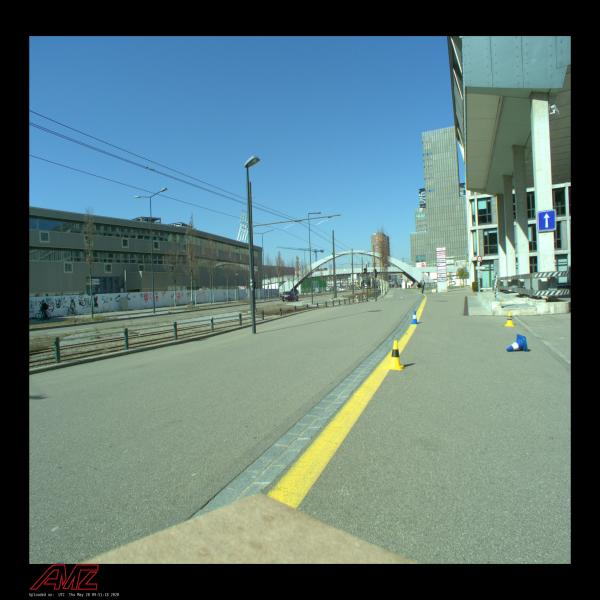blue_cone: (507, 334, 528, 352), (410, 311, 419, 324)
yellow_cone: (387, 341, 405, 370), (504, 312, 514, 326)
